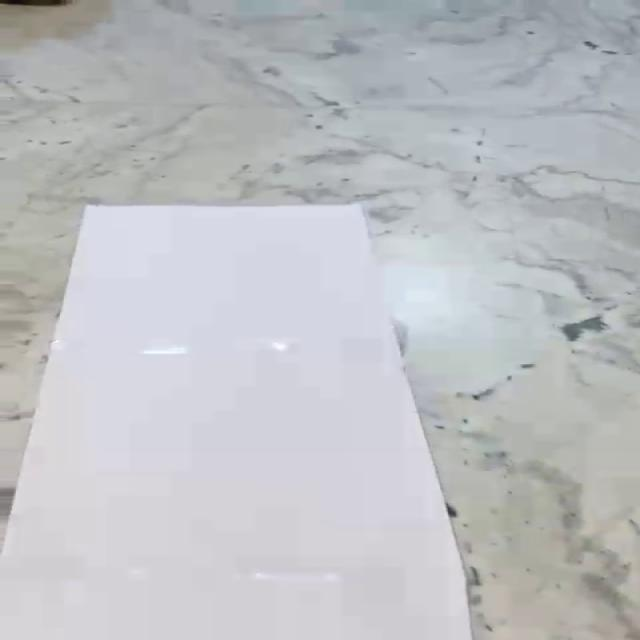road: (0, 205, 475, 640)
